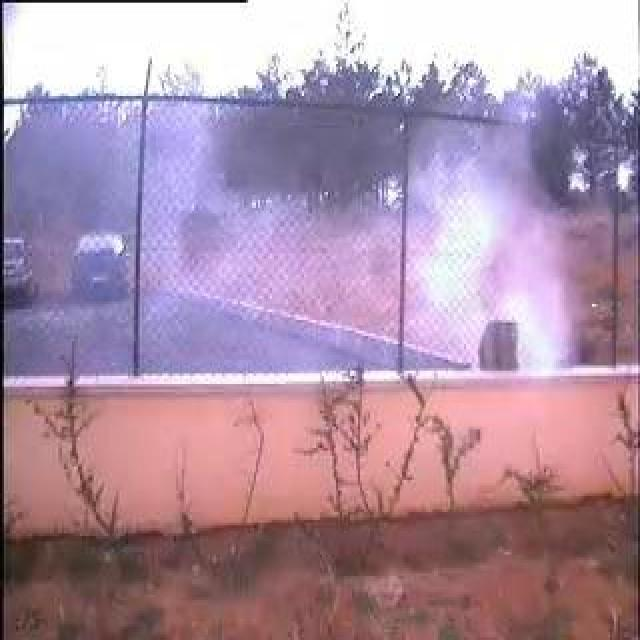Smoke: (419, 167, 575, 372)
